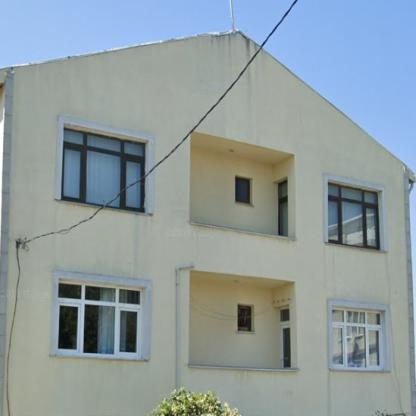door: (280, 308, 289, 367), (280, 181, 286, 234)
window: (62, 128, 141, 209), (57, 283, 139, 353), (329, 183, 380, 248), (334, 310, 381, 366), (236, 178, 251, 202), (237, 306, 252, 328)
